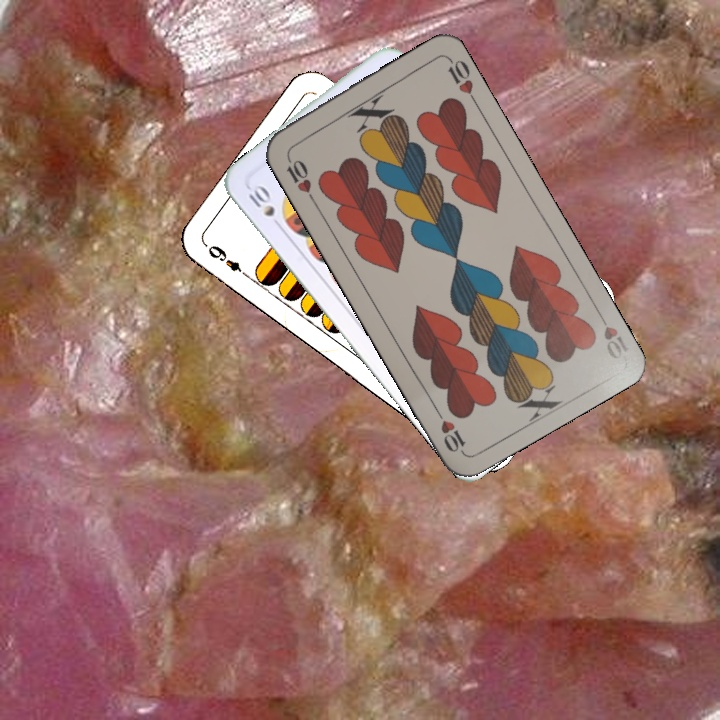E9: (204, 241, 252, 281)
H10: (592, 305, 631, 362), (281, 150, 318, 204)
S10: (244, 180, 278, 220)
